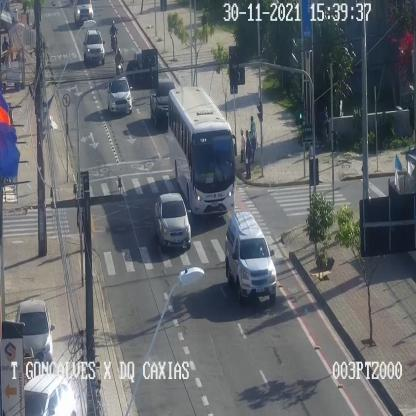bus: (169, 85, 237, 217)
car: (225, 211, 276, 306), (17, 300, 55, 369), (25, 372, 79, 416), (154, 191, 191, 251), (150, 79, 177, 127), (107, 76, 132, 114), (83, 30, 106, 65), (73, 0, 99, 26)
motorbike: (109, 20, 118, 52), (115, 47, 124, 75)
person: (318, 104, 329, 154), (245, 130, 252, 179), (250, 115, 257, 163), (240, 128, 246, 171)
